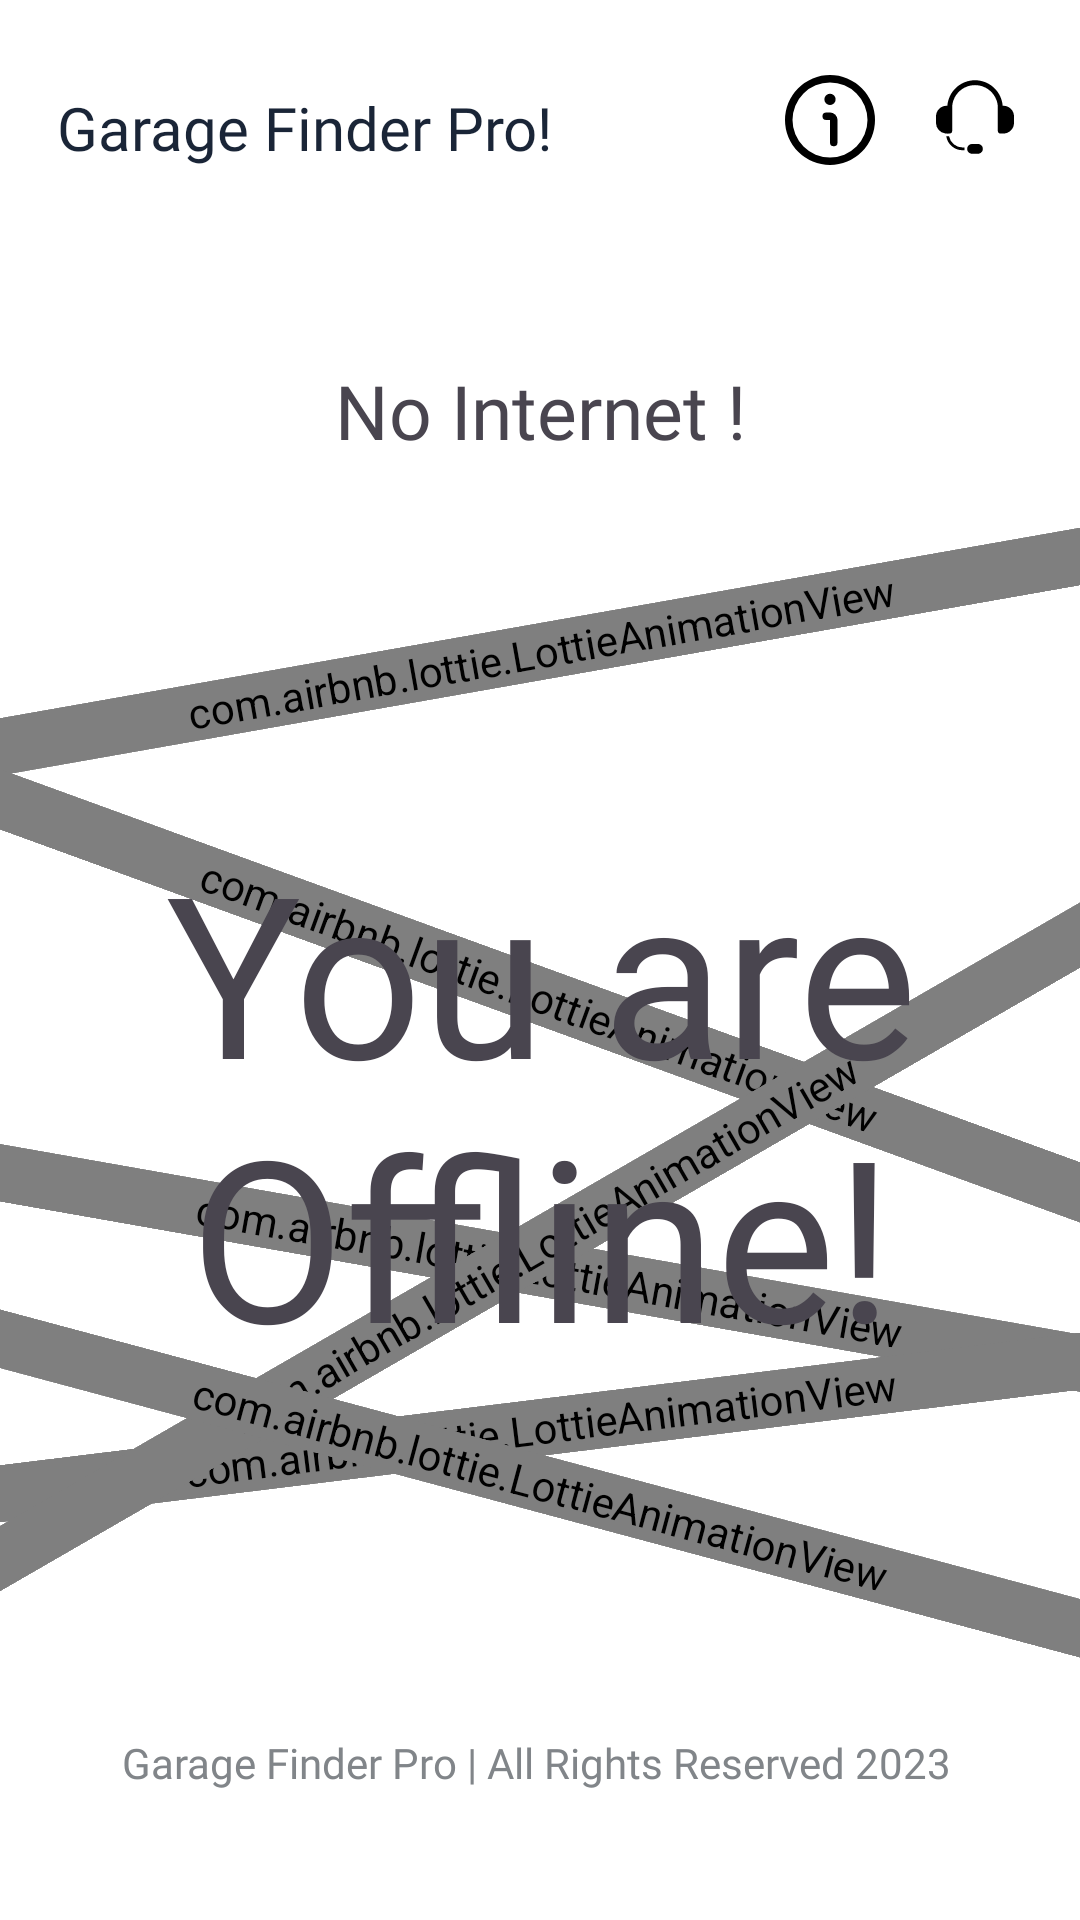

Screen size 1080px x 1920px. Icon name, then its center in pixels as (x,y):
info: (830,120)
support: (975,117)
